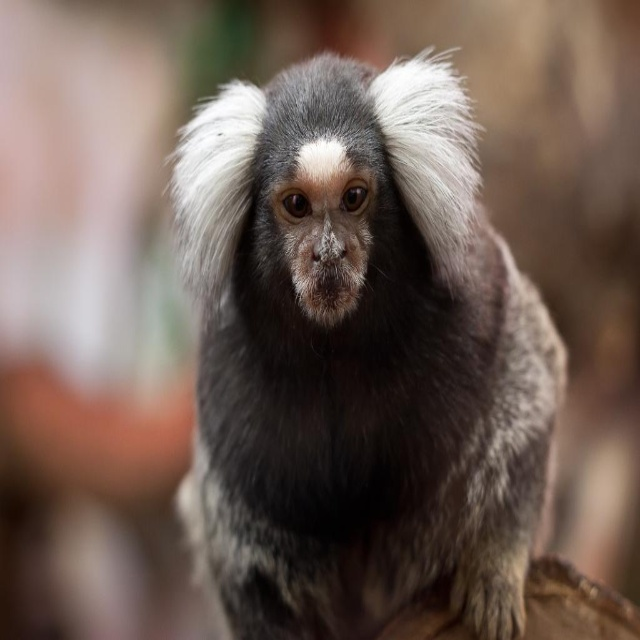Monkey: (155, 40, 568, 640)
